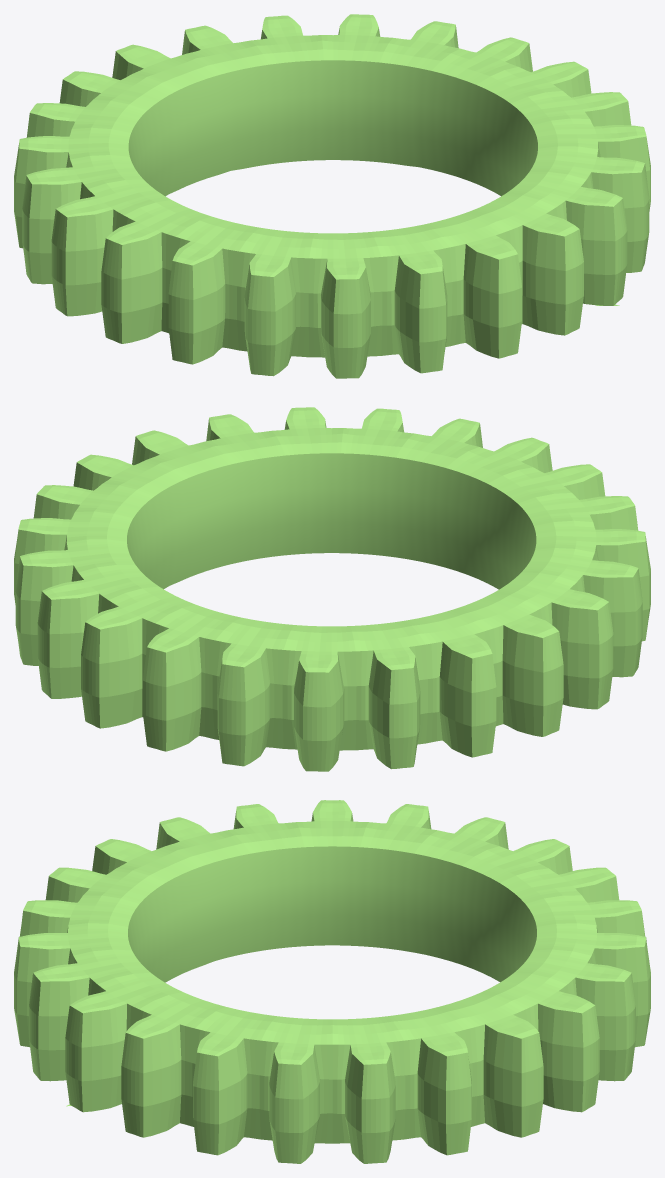
File: Gear.gltf
The picture shows the model from 3 angles, top to bottom: view 1: azimuth 30°, elevation 25°; view 2: azimuth 150°, elevation 25°; view 3: azimuth 270°, elevation 25°; orthographic projection.
Parts seen in each view (by area): view 1: Gear; view 2: Gear; view 3: Gear.
Part boxes in pixels (<box>): Gear: <box>14,14,650,378</box>; Gear: <box>14,407,650,771</box>; Gear: <box>14,800,650,1163</box>.
Size of the model in its own units: 2.33 by 0.4239 by 2.33.
